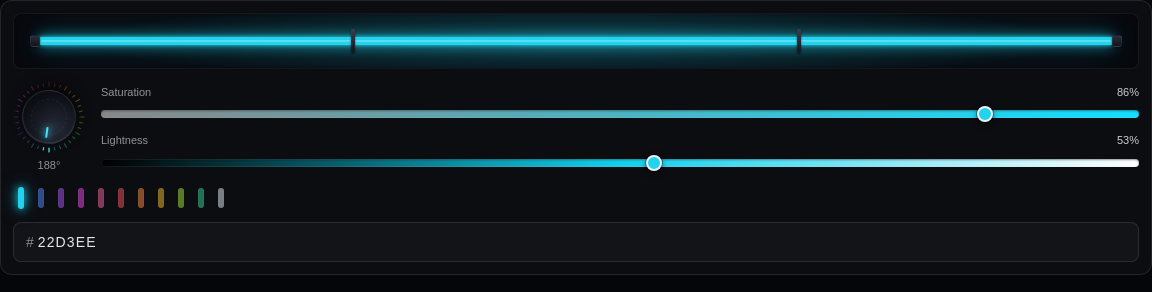
Test: ColorPicker › follows a controlled value
What coordinates should you click on to do the following:
click the radio button named "Amber"
I would click on:
 (161, 198)
Its box is [153,186,169,210].
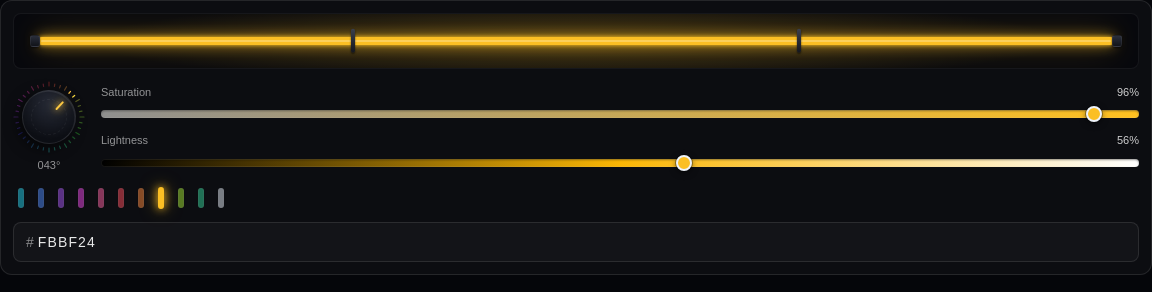
Check: the field named "Hex color" holds "FBBF24", box [34,222,1138,260]
